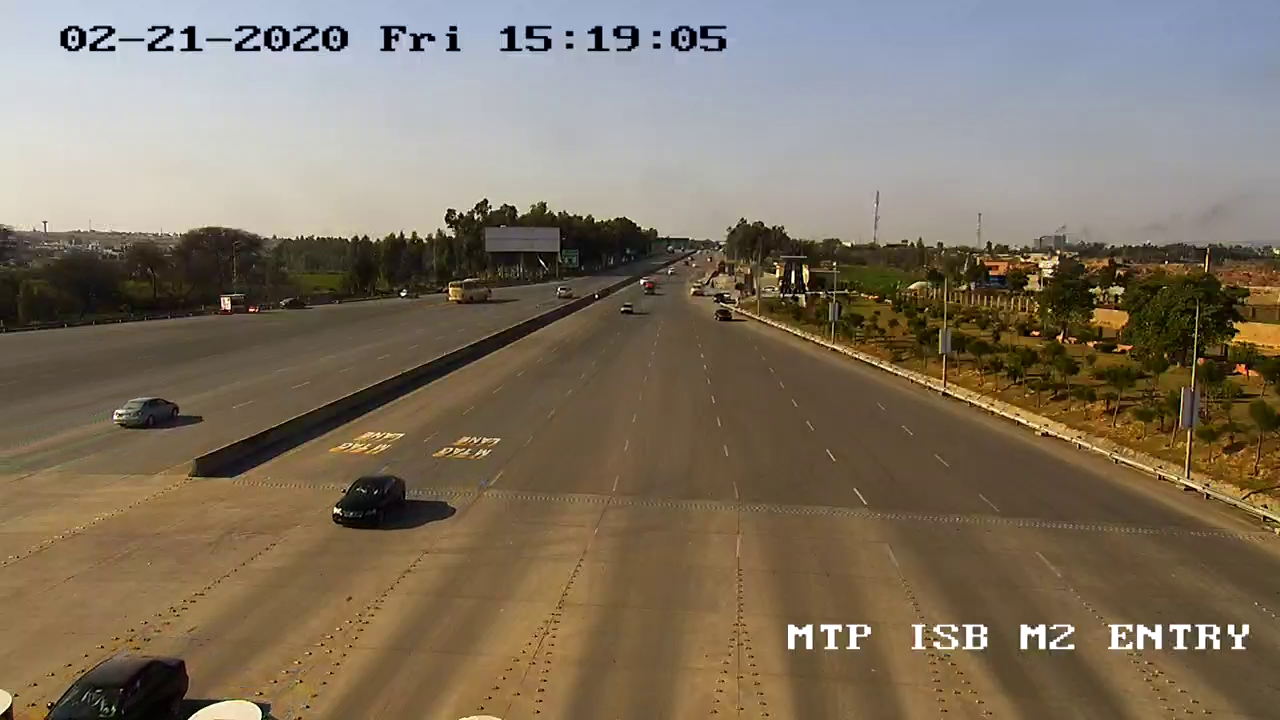f1: (320, 469, 417, 537)
